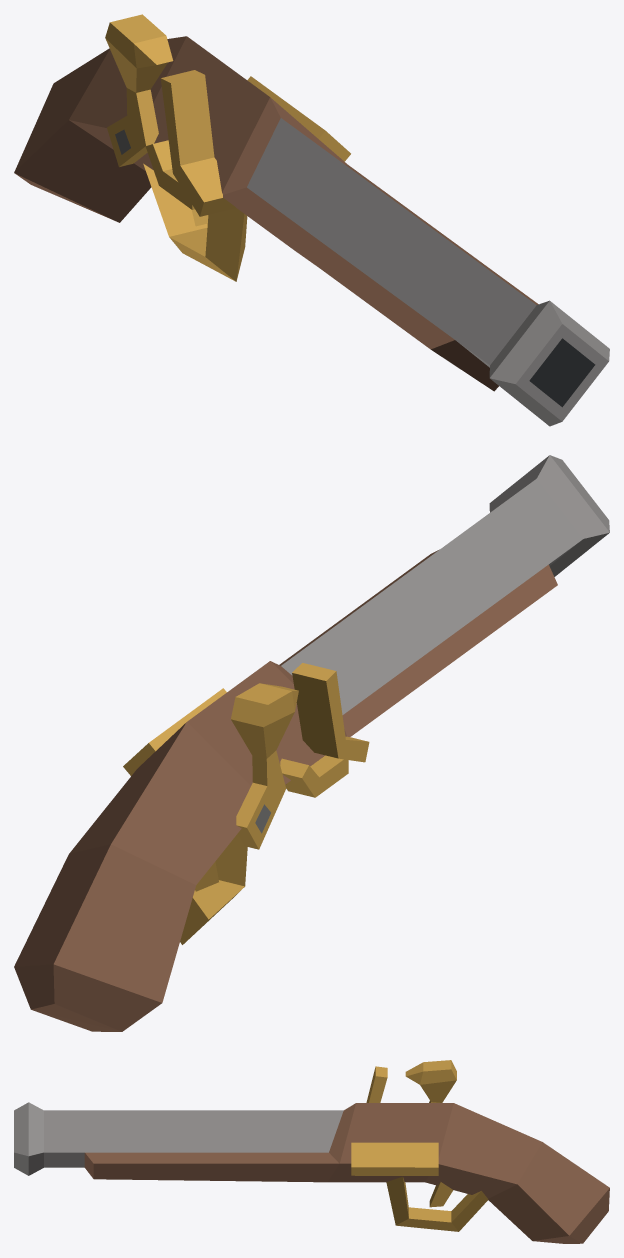
File: Prop_MusketPistol_01.glb
3 renders of one model, top to bottom at view 1: azimuth 30°, elevation 25°; view 2: azimuth 150°, elevation 25°; view 3: azimuth 270°, elevation 25°, orthographic. The views are drawn at different scales.
Visible parts, largest first — view 1: Prop_MusketPistol_01; view 2: Prop_MusketPistol_01; view 3: Prop_MusketPistol_01.
Part boxes in pixels (x1=…): Prop_MusketPistol_01: x1=14, y1=14, x2=609, y2=426; Prop_MusketPistol_01: x1=14, y1=455, x2=609, y2=1031; Prop_MusketPistol_01: x1=14, y1=1060, x2=609, y2=1243.
Size of the model in its own units: 0.1682 by 0.2773 by 0.9283.
Materials: 1 (1 with a texture image).
